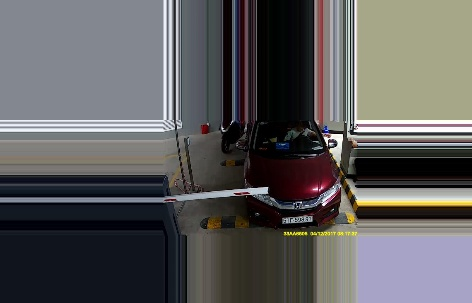plate: (279, 215, 316, 225)
